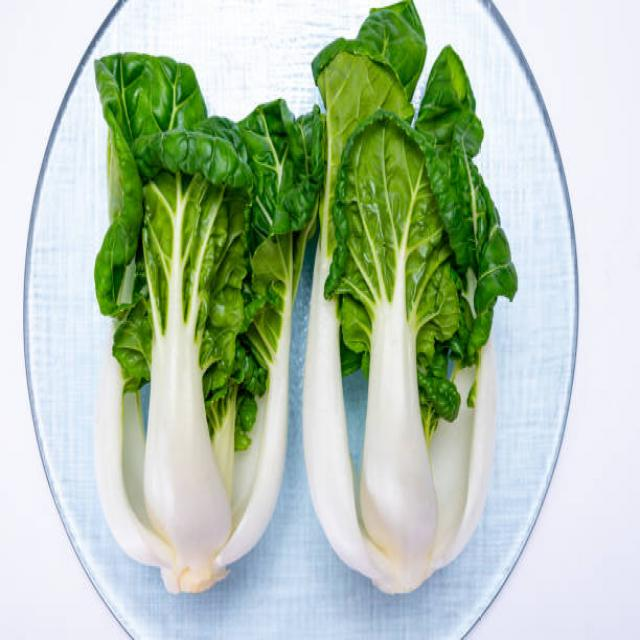bok choy: (97, 44, 281, 573), (322, 17, 487, 585)
